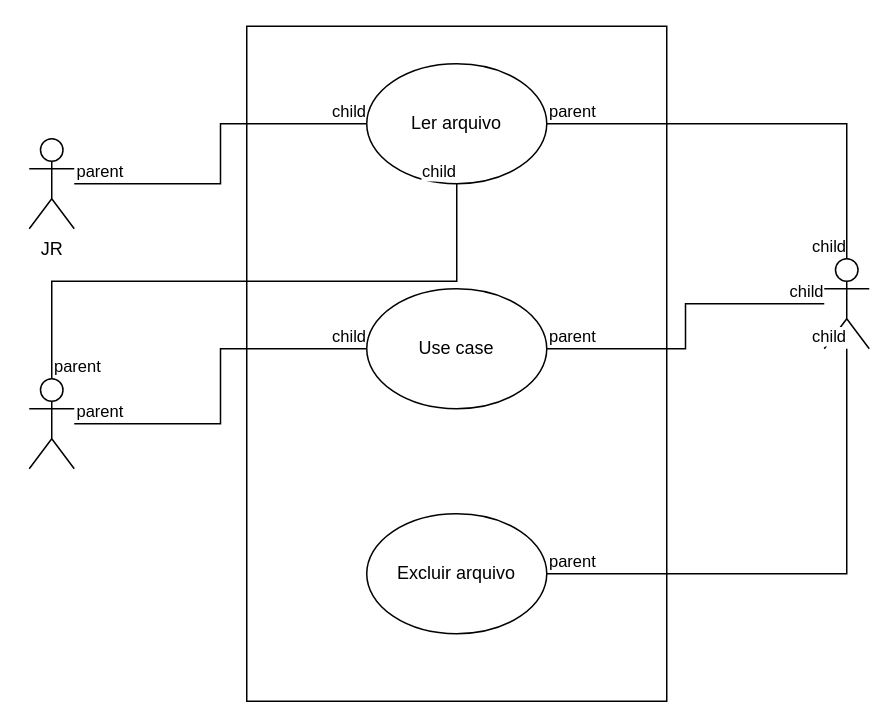
This 896x728 diagram has some shape labels left out. Each missing label, with the centre of its shape:
ADM: the point at 846,303
Senior: the point at 51,423
